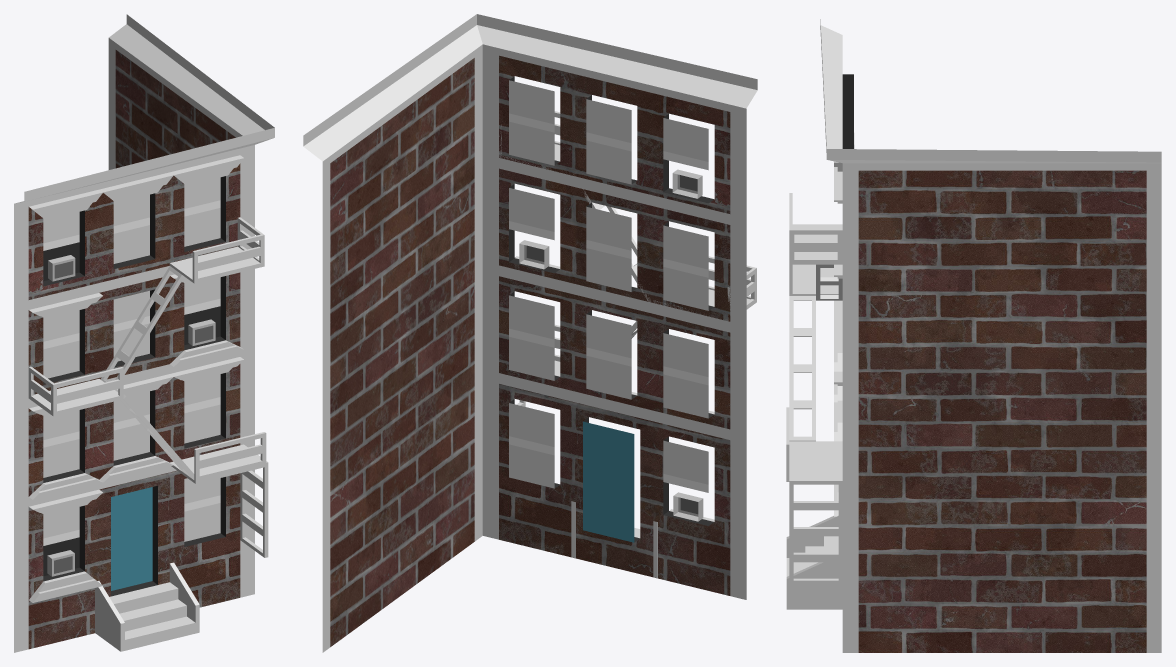
The model's file is BR_Apartment_Small.fbx.
3 renders of one model, left to right at view 1: azimuth 30°, elevation 25°; view 2: azimuth 150°, elevation 25°; view 3: azimuth 270°, elevation 25°, orthographic. The views are drawn at different scales.
Visible parts, largest first — view 1: BR_Building_Main, BR_Window_Decor, BR_Roof, BR_Stair_Railing, BR_Door_Stair, BR_Door_Stair_Rail, BR_Aircons, BR_Stair_Lower, BR_Stair_Upper, BR_Stair_Middle; view 2: BR_Building_Main, BR_Roof, BR_Aircons, BR_Stair_Railing; view 3: BR_Building_Main, BR_Roof, BR_Stair_Railing, BR_Stair_Lower, BR_Door_Stair_Rail, BR_Stair_Middle, BR_Window_Decor, BR_Door_Stair, BR_Stair_Upper.
Boxes of the visible parts, x1,y1,x2,y2 form: BR_Building_Main: [14, 44, 254, 652]; BR_Window_Decor: [29, 155, 243, 602]; BR_Roof: [14, 14, 274, 210]; BR_Stair_Railing: [28, 217, 266, 483]; BR_Door_Stair: [109, 582, 195, 650]; BR_Door_Stair_Rail: [95, 562, 199, 651]; BR_Aircons: [47, 255, 215, 576]; BR_Stair_Lower: [240, 444, 268, 557]; BR_Stair_Upper: [100, 266, 184, 382]; BR_Stair_Middle: [115, 389, 194, 479]; BR_Building_Main: [322, 52, 746, 652]; BR_Roof: [303, 14, 757, 168]; BR_Aircons: [519, 169, 703, 521]; BR_Stair_Railing: [499, 111, 756, 394]; BR_Building_Main: [842, 74, 1161, 652]; BR_Roof: [820, 19, 1161, 170]; BR_Stair_Railing: [786, 193, 842, 481]; BR_Stair_Lower: [789, 479, 842, 584]; BR_Door_Stair_Rail: [786, 515, 842, 609]; BR_Stair_Middle: [789, 296, 815, 441]; BR_Window_Decor: [834, 161, 842, 516]; BR_Door_Stair: [786, 536, 838, 576]; BR_Stair_Upper: [816, 264, 842, 300].
Bounding box in the file's own units: 1224 × 2118 × 1411.
